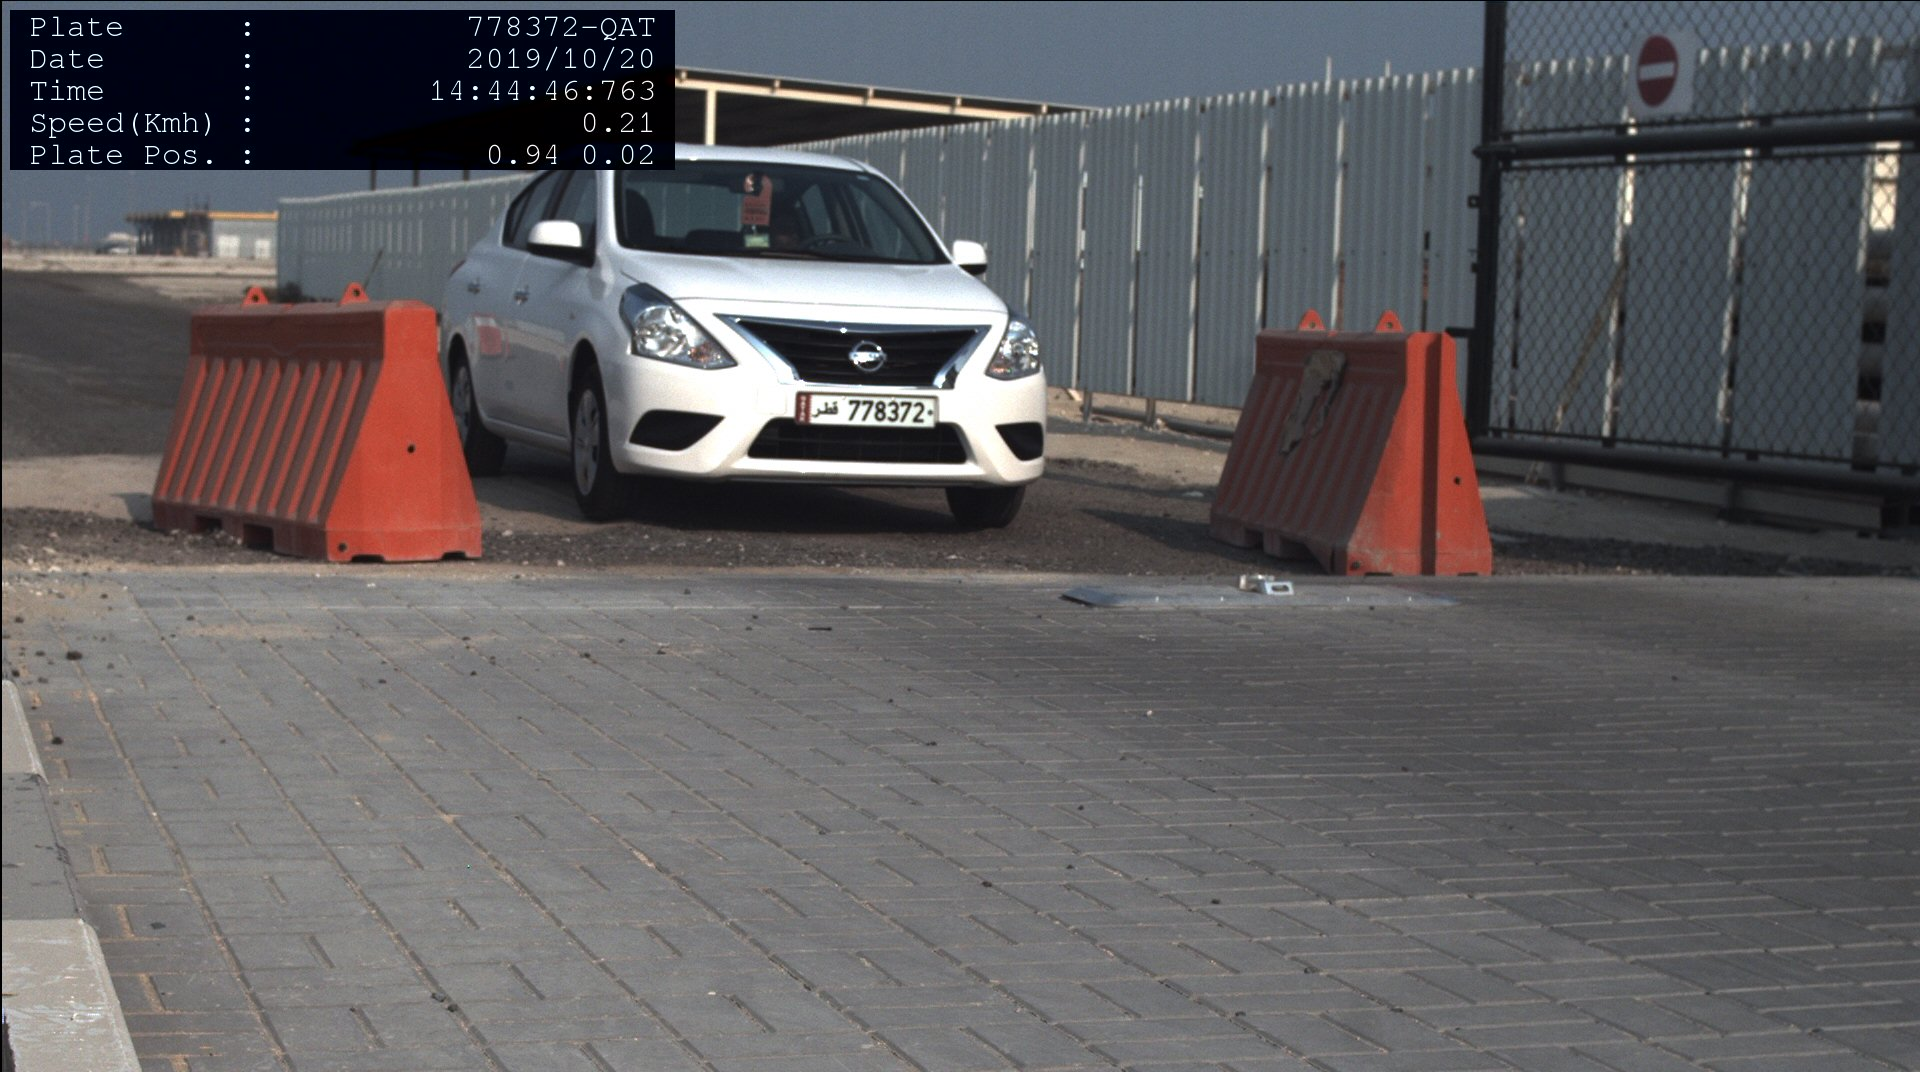License Plate: (794, 392, 939, 426)
